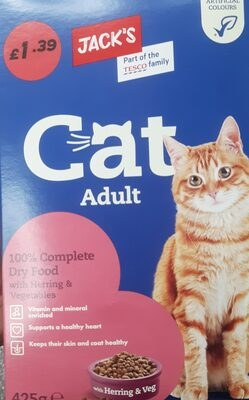Cat Herring and veg: (12, 20, 237, 380)
